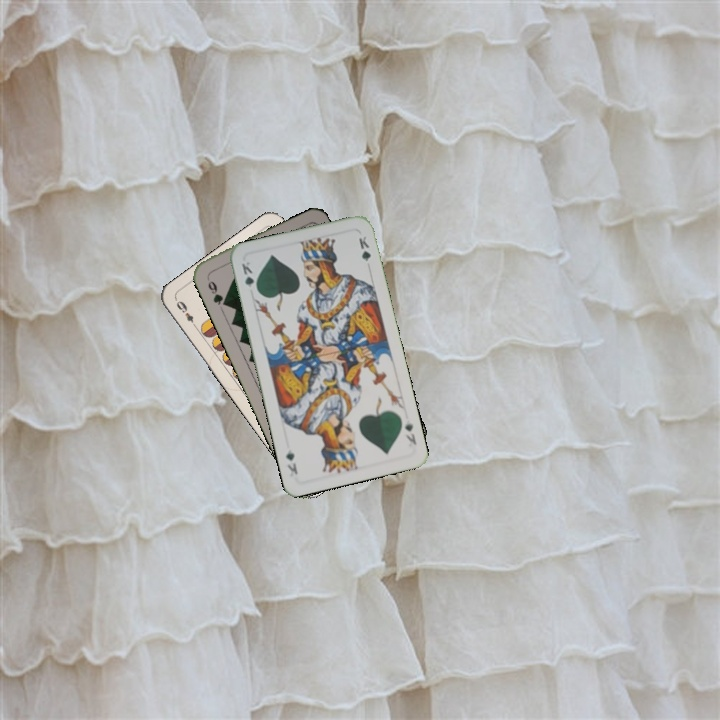E9: (172, 296, 200, 331)
G9: (202, 272, 230, 309)
GK: (237, 257, 260, 295), (401, 419, 419, 447)
